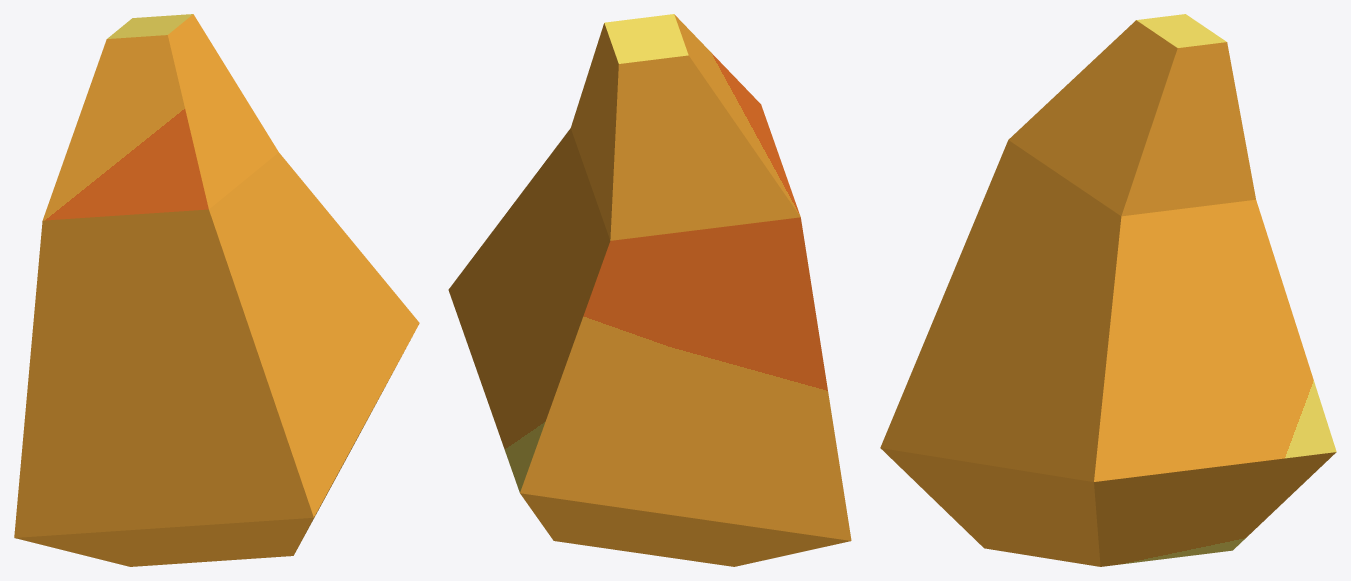
The model's file is crystall_small.fbx.
3 renders of one model, left to right at view 1: azimuth 30°, elevation 25°; view 2: azimuth 150°, elevation 25°; view 3: azimuth 270°, elevation 25°, orthographic. The views are drawn at different scales.
Visible parts, largest first — view 1: Cube.020; view 2: Cube.020; view 3: Cube.020.
Part boxes in pixels (<box>): Cube.020: <box>14,14,419,566</box>; Cube.020: <box>448,14,851,566</box>; Cube.020: <box>880,14,1336,566</box>.
Size of the model in its own units: 50.4 by 63.16 by 48.77.
